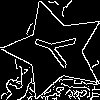Y: (29, 26, 86, 73)
